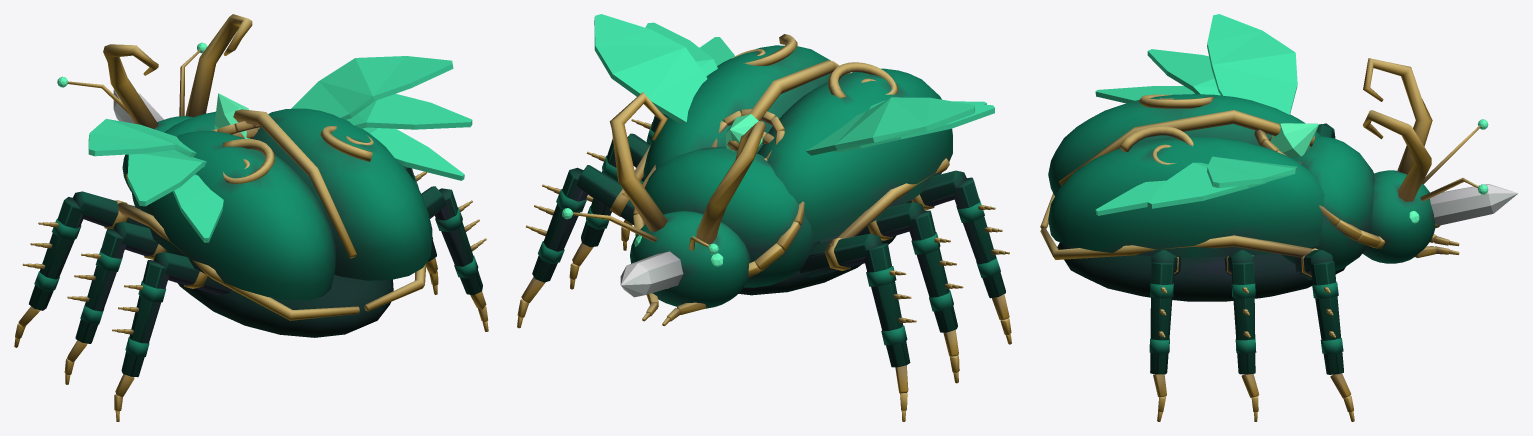
The model's file is KepriScarab.glb.
3 renders of one model, left to right at view 1: azimuth 30°, elevation 25°; view 2: azimuth 150°, elevation 25°; view 3: azimuth 270°, elevation 25°, orthographic. The views are drawn at different scales.
Visible parts, largest first — view 1: Body__Tex, WingR__Crystal, WingL__Crystal, Head__Tex, LegL3_2__Tex, LegL1_2__Tex, LegL2_2__Tex, LegR3_2__Tex, LegL3_1__Tex, LegL1_1__Tex, LegL2_1__Tex, Body__Glow (+1 smaller); view 2: Body__Tex, Head__Tex, WingR__Crystal, WingL__Crystal, LegL1_2__Tex, LegL2_2__Tex, LegL3_2__Tex, LegR1_2__Tex, LegL1_1__Tex, LegR1_1__Tex, LegR2_2__Tex, LegL2_1__Tex (+6 smaller); view 3: Body__Tex, Head__Tex, WingL__Crystal, WingR__Crystal, LegR1_2__Tex, LegR3_2__Tex, LegR2_2__Tex, Body__Glow, LegR1_1__Tex, LegR1_3__Tex.
Part boxes in pixels (x1,y1,x2,y2): Body__Tex: (118, 108, 432, 337); WingR__Crystal: (291, 56, 472, 180); WingL__Crystal: (88, 119, 223, 242); Head__Tex: (67, 14, 252, 191); LegL3_2__Tex: (112, 260, 168, 377); LegL1_2__Tex: (22, 197, 83, 310); LegL2_2__Tex: (67, 228, 125, 343); LegR3_2__Tex: (435, 188, 486, 295); LegL3_1__Tex: (154, 252, 231, 295); LegL1_1__Tex: (73, 191, 142, 228); LegL2_1__Tex: (113, 221, 169, 259); Body__Glow: (214, 93, 249, 138); Body__Tex: (621, 34, 952, 295); Head__Tex: (573, 92, 765, 325); WingR__Crystal: (594, 14, 734, 123); WingL__Crystal: (805, 97, 994, 155); LegL1_2__Tex: (864, 243, 916, 367); LegL2_2__Tex: (908, 210, 963, 332); LegL3_2__Tex: (953, 177, 1009, 298); LegR1_2__Tex: (526, 167, 587, 282); LegL1_1__Tex: (799, 233, 882, 277); LegR1_1__Tex: (576, 165, 634, 224); LegR2_2__Tex: (581, 139, 618, 247); LegL2_1__Tex: (839, 202, 924, 240); Body__Tex: (1040, 94, 1385, 301); Head__Tex: (1362, 58, 1518, 263); WingL__Crystal: (1095, 14, 1297, 114); WingR__Crystal: (1095, 156, 1297, 215); LegR1_2__Tex: (1310, 261, 1343, 374); LegR3_2__Tex: (1149, 262, 1174, 374); LegR2_2__Tex: (1231, 262, 1256, 374); Body__Glow: (1270, 123, 1318, 157); LegR1_1__Tex: (1295, 248, 1333, 279); LegR1_3__Tex: (1330, 373, 1354, 421).
Size of the model in its own units: 4.67 by 3.14 by 5.41.
